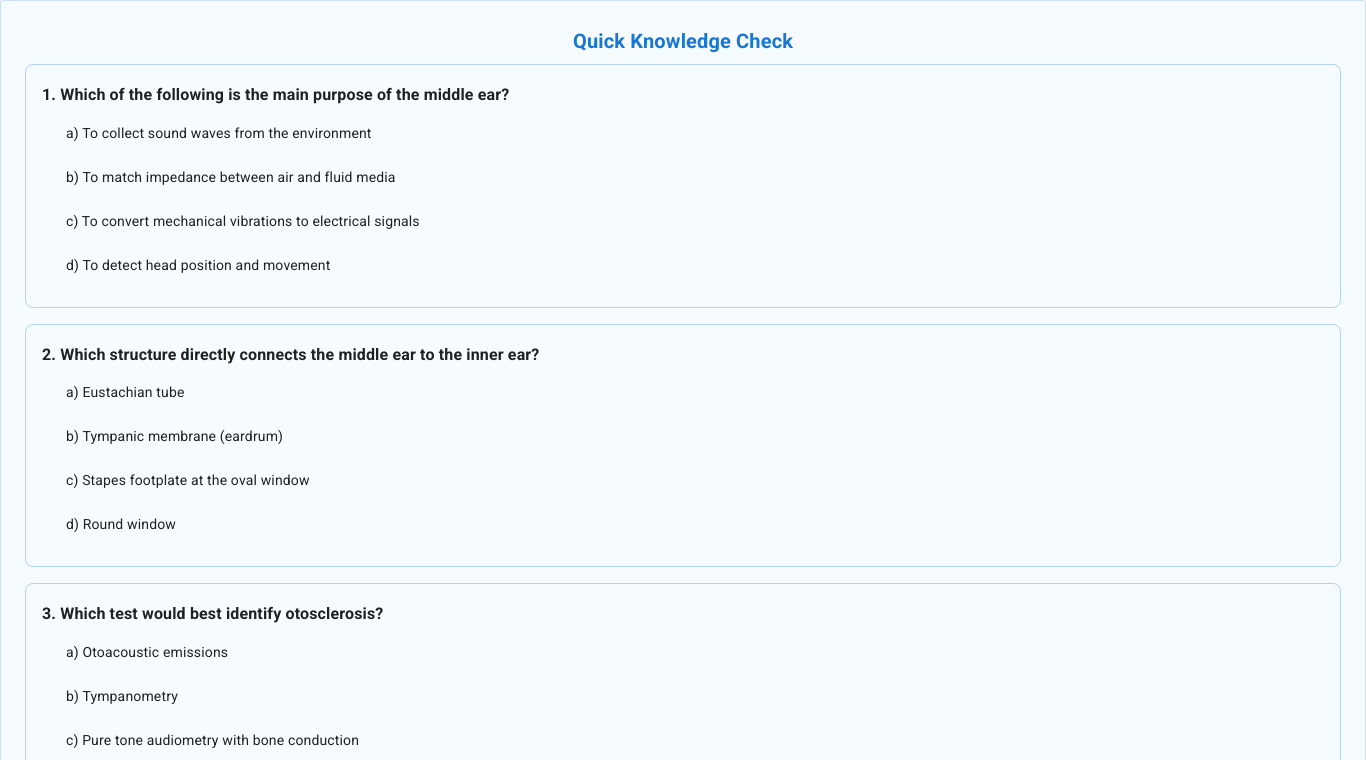
Test: AnatomyQuiz › reveals answer feedback on Check Answer click
Click the button "a) To collect sound waves from the environment" at (219, 133), box x1=66 y1=125 x2=372 y2=141
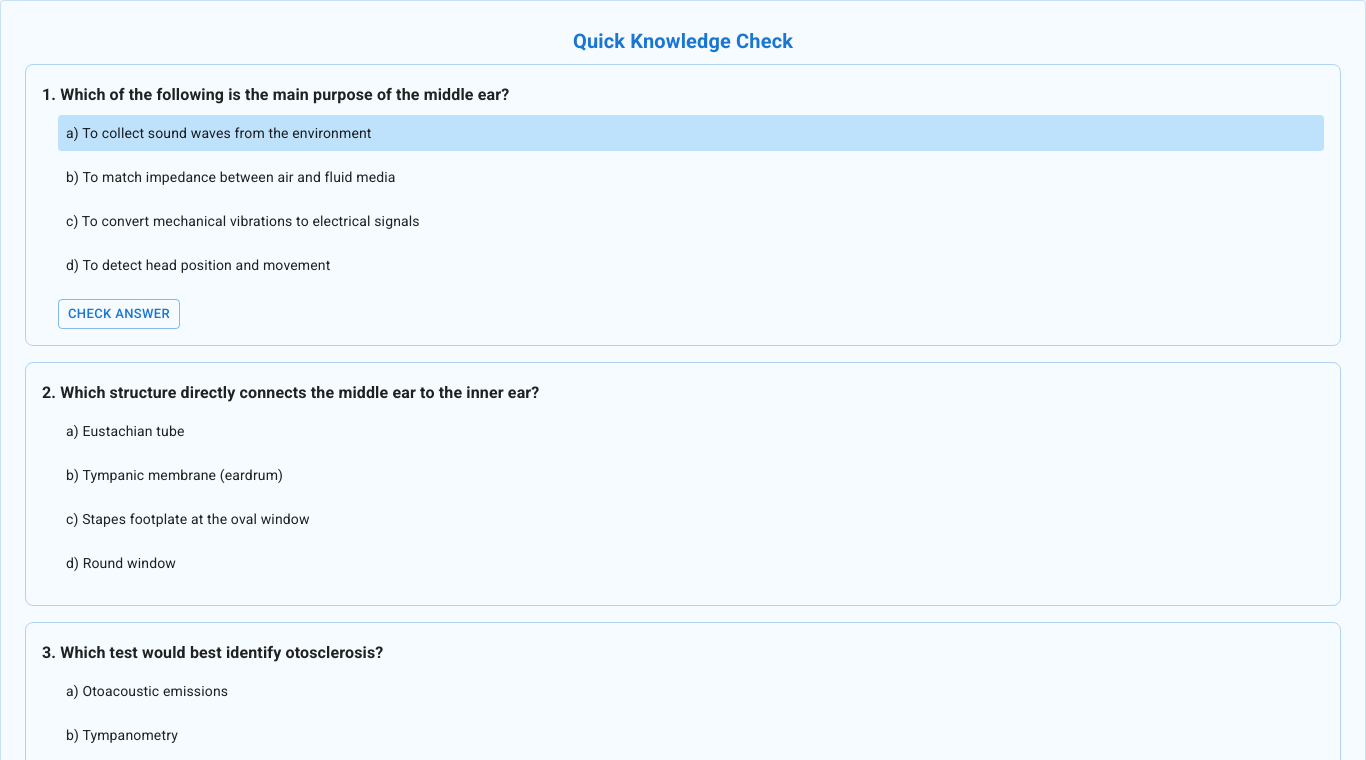
Click the button "Check Answer" at (119, 314), box x1=58 y1=299 x2=180 y2=330
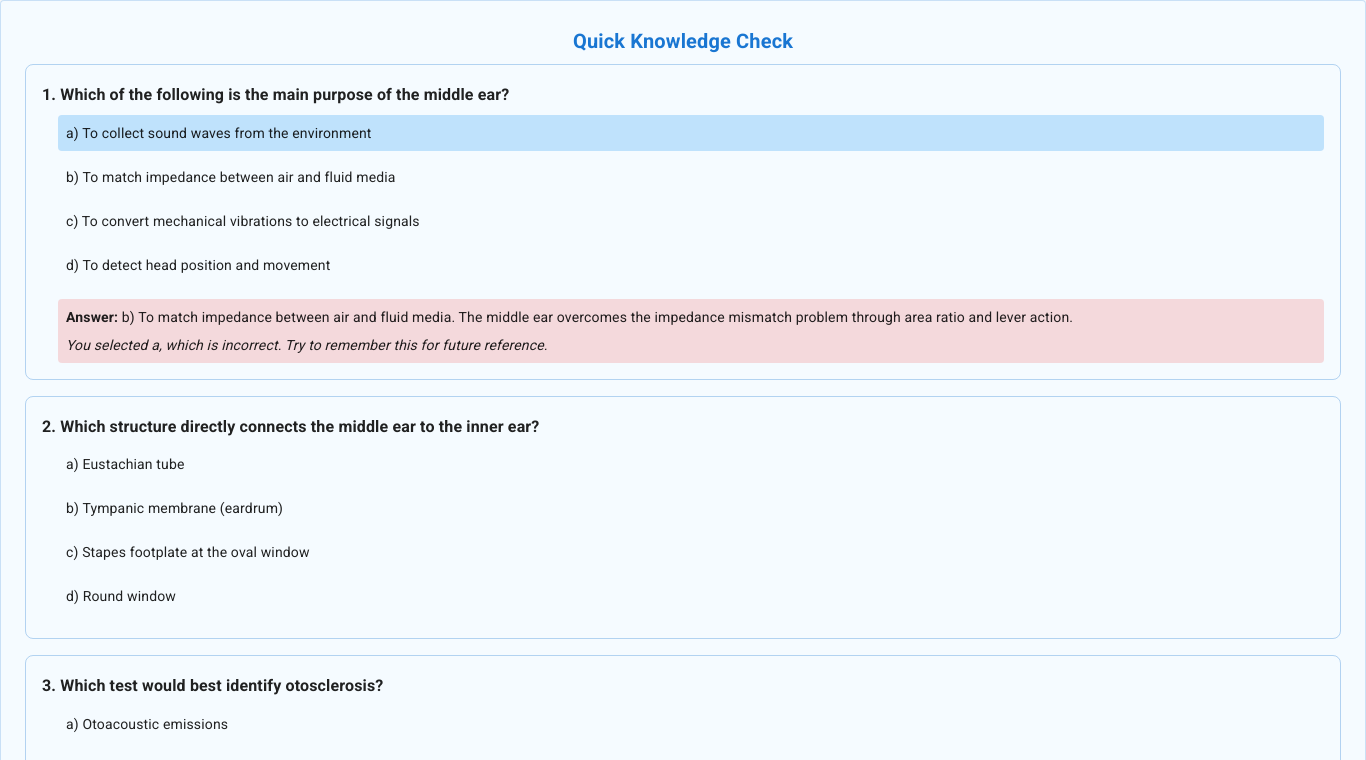
Check: the text "Answer:" is shown, box x1=66 y1=309 x2=118 y2=325
